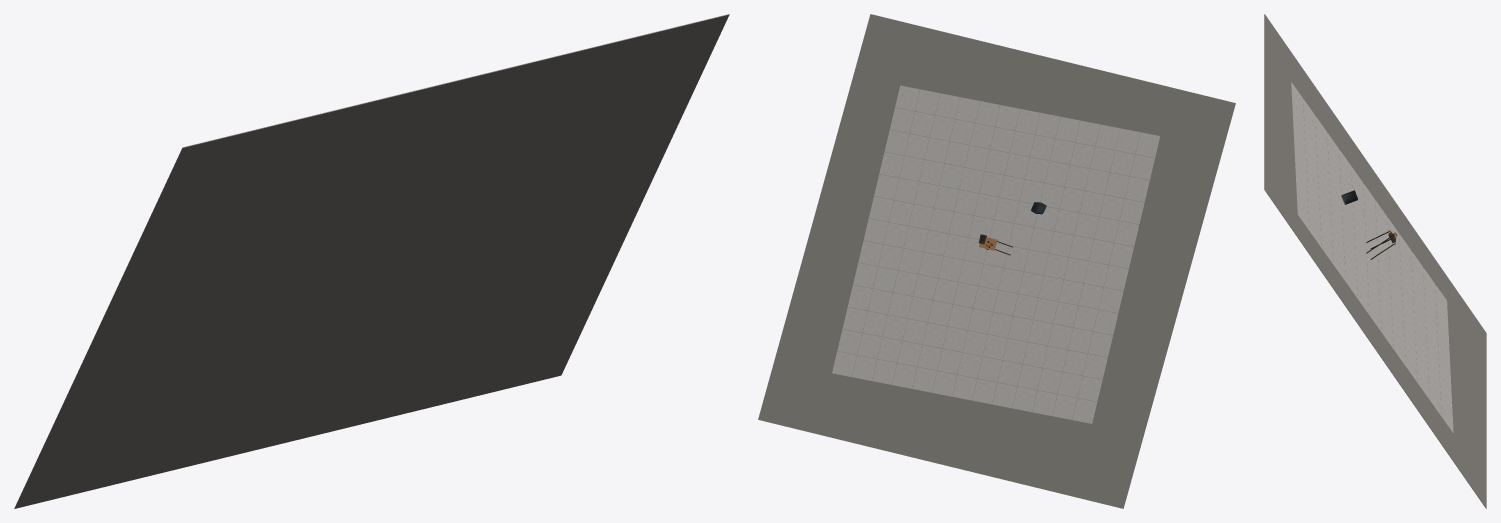
Rendered from viga.glb.
3 renders of one model, left to right at view 1: azimuth 30°, elevation 25°; view 2: azimuth 150°, elevation 25°; view 3: azimuth 270°, elevation 25°, orthographic. The views are drawn at different scales.
Parts seen in each view (by area): view 1: GEN_subfloor; view 2: GEN_subfloor; view 3: GEN_subfloor.
Part boxes in pixels (bbox=[...]): GEN_subfloor: bbox=[14, 14, 729, 508]; GEN_subfloor: bbox=[758, 14, 1235, 508]; GEN_subfloor: bbox=[1264, 14, 1486, 508].
Bounding box in the file's own units: 24 × 20.32 × 12.82.
Materials: 186 (183 with a texture image).
